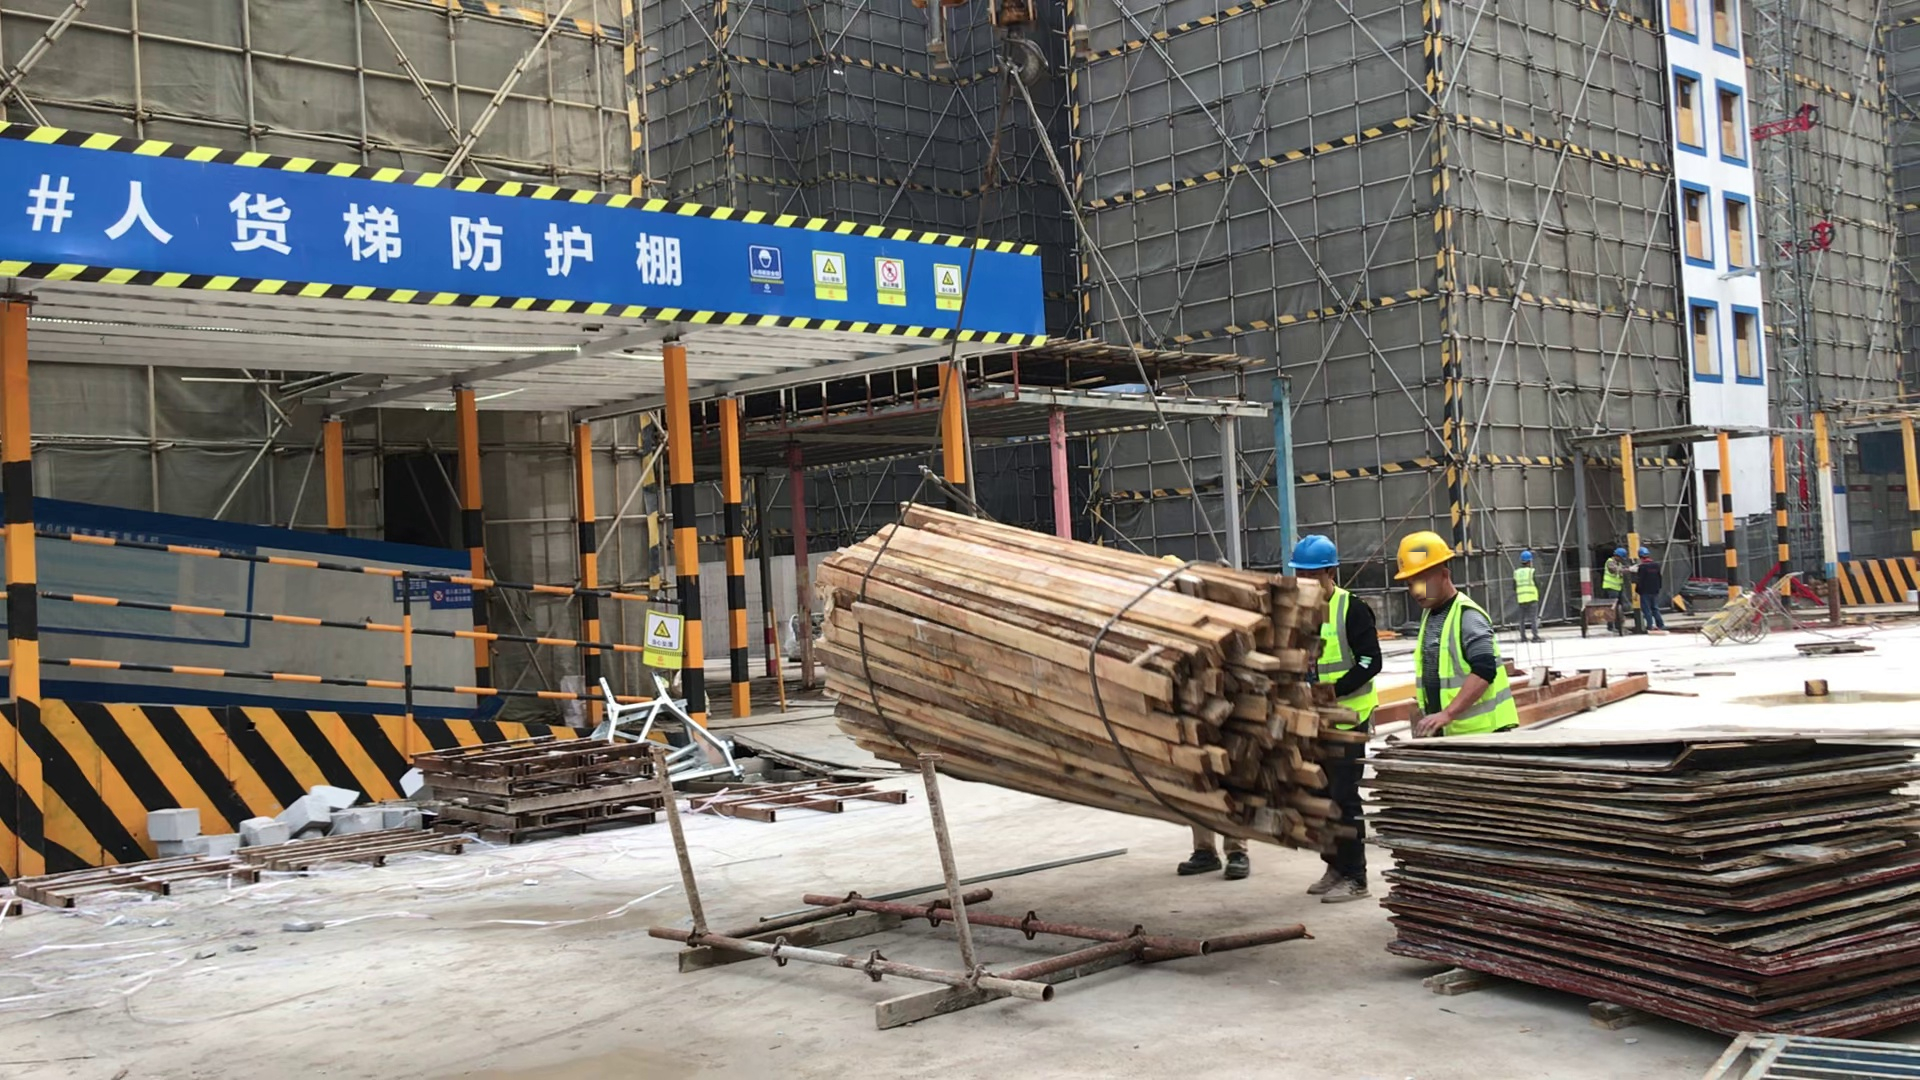board: (1379, 718, 1920, 1044)
brick: (131, 773, 446, 901)
fence: (1, 520, 692, 727)
handcart: (1698, 566, 1814, 654), (1577, 595, 1625, 635)
helmet: (1386, 523, 1452, 585), (1279, 529, 1343, 577), (1513, 546, 1536, 565), (1637, 546, 1656, 566), (1610, 544, 1631, 562)
hook: (904, 3, 1115, 118)
person: (1285, 544, 1392, 926), (1386, 520, 1531, 760), (1627, 546, 1677, 634), (1511, 541, 1552, 644), (1600, 541, 1633, 638)
slogan: (1, 92, 1081, 376), (2, 482, 513, 730), (627, 596, 692, 684)
vest: (1406, 599, 1529, 746), (1306, 587, 1387, 734), (1509, 566, 1546, 605), (1600, 559, 1626, 599)
wood: (781, 487, 1338, 864)
